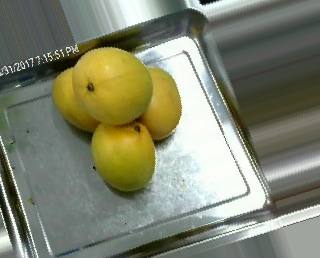Mango: (68, 45, 160, 129), (83, 109, 163, 196), (123, 66, 187, 145), (47, 66, 104, 131)
